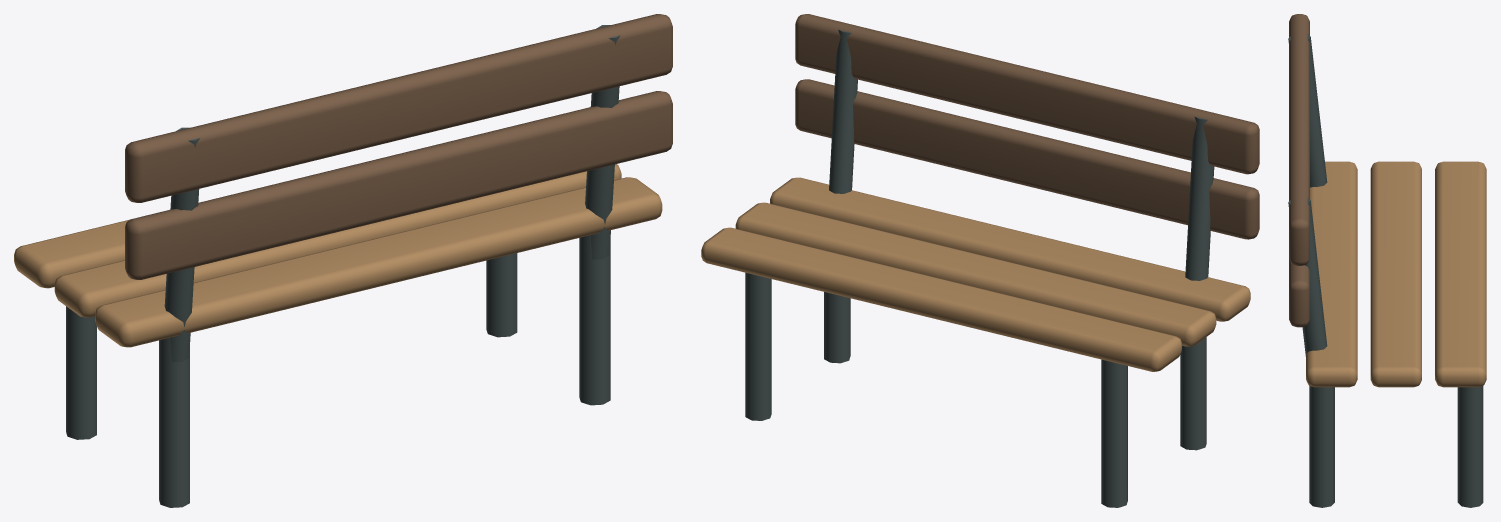
File: Bench.glb
The picture shows the model from 3 angles, left to right: view 1: azimuth 30°, elevation 25°; view 2: azimuth 150°, elevation 25°; view 3: azimuth 270°, elevation 25°; orthographic projection. The views are drawn at different scales.
Parts seen in each view (by area): view 1: Back slat.001, Back slat, Seat slat.002, Seat slat.001, Bench leg.003, Bench leg.001, Seat slat, Bench leg, Bench leg.002, Back support, Back support.001; view 2: Back slat.001, Back slat, Seat slat, Seat slat.001, Seat slat.002, Bench leg, Bench leg.002, Back support, Back support.001, Bench leg.001, Bench leg.003; view 3: Seat slat.001, Seat slat, Seat slat.002, Back slat.001, Bench leg.002, Bench leg.003, Back support.001, Back support, Back slat.
Part boxes in pixels (bbox=[...]): Back slat.001: bbox=[125, 14, 672, 202]; Back slat: bbox=[125, 91, 672, 279]; Seat slat.002: bbox=[95, 177, 662, 347]; Seat slat.001: bbox=[54, 164, 621, 317]; Bench leg.003: bbox=[579, 235, 610, 405]; Bench leg.001: bbox=[159, 338, 189, 507]; Seat slat: bbox=[14, 219, 130, 288]; Bench leg: bbox=[66, 306, 96, 439]; Bench leg.002: bbox=[486, 253, 517, 337]; Back support: bbox=[164, 127, 199, 362]; Back support.001: bbox=[585, 25, 620, 259]; Back slat.001: bbox=[795, 14, 1259, 174]; Back slat: bbox=[795, 79, 1259, 239]; Seat slat: bbox=[701, 227, 1181, 371]; Seat slat.001: bbox=[735, 202, 1216, 346]; Seat slat.002: bbox=[770, 177, 1250, 321]; Bench leg: bbox=[1101, 359, 1127, 507]; Bench leg.002: bbox=[745, 272, 771, 420]; Back support: bbox=[1185, 116, 1214, 280]; Back support.001: bbox=[829, 29, 857, 193]; Bench leg.001: bbox=[1180, 337, 1206, 450]; Bench leg.003: bbox=[824, 292, 850, 363]; Seat slat.001: bbox=[1370, 161, 1421, 387]; Seat slat: bbox=[1435, 161, 1486, 387]; Seat slat.002: bbox=[1306, 161, 1357, 387]; Back slat.001: bbox=[1289, 14, 1309, 265]; Bench leg.002: bbox=[1457, 386, 1483, 507]; Bench leg.003: bbox=[1309, 387, 1334, 507]; Back support.001: bbox=[1288, 198, 1327, 389]; Back support: bbox=[1288, 34, 1327, 187]; Back slat: bbox=[1289, 259, 1309, 327].
Bounding box in the file's own units: 1.55 × 1.04 × 0.6148.
